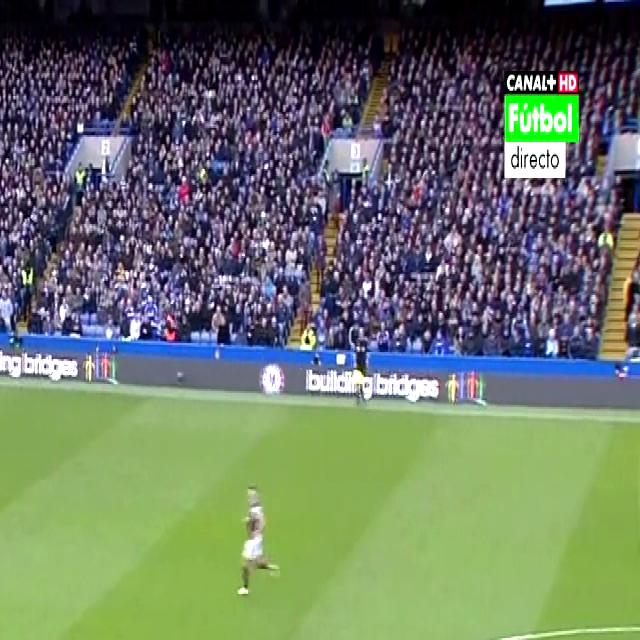referee: (349, 312, 375, 409)
soccer-player: (234, 462, 284, 602)
